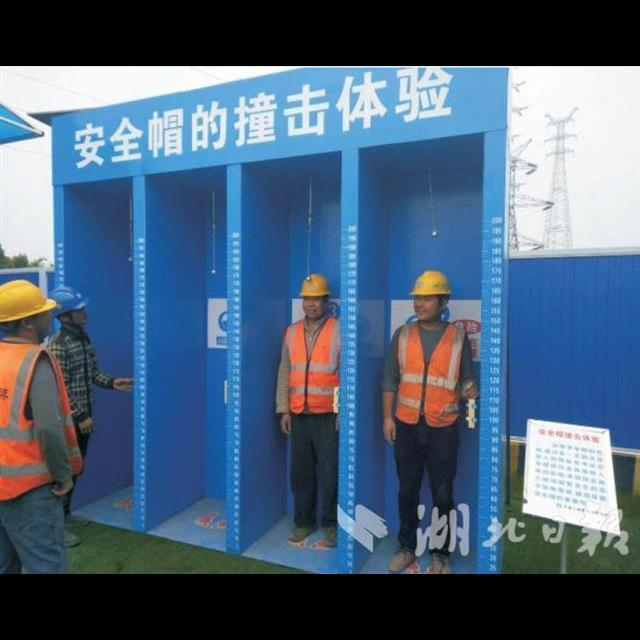helmet: (0, 276, 62, 328), (405, 260, 462, 298), (46, 276, 94, 314), (298, 271, 338, 298)
safety_vest: (0, 340, 87, 501), (389, 320, 467, 430), (288, 322, 342, 416)
